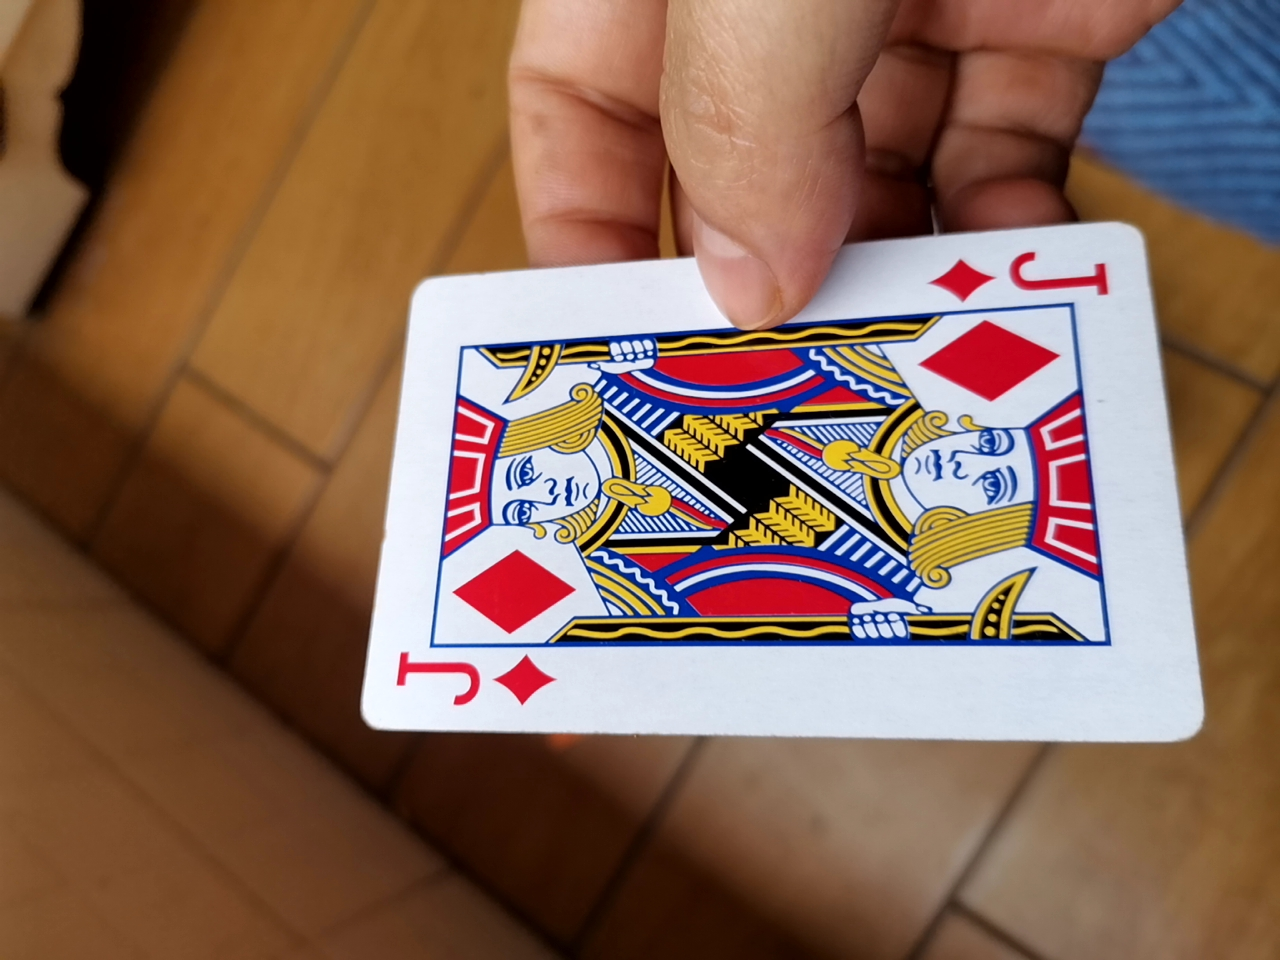fk j: (336, 241, 1191, 743)
